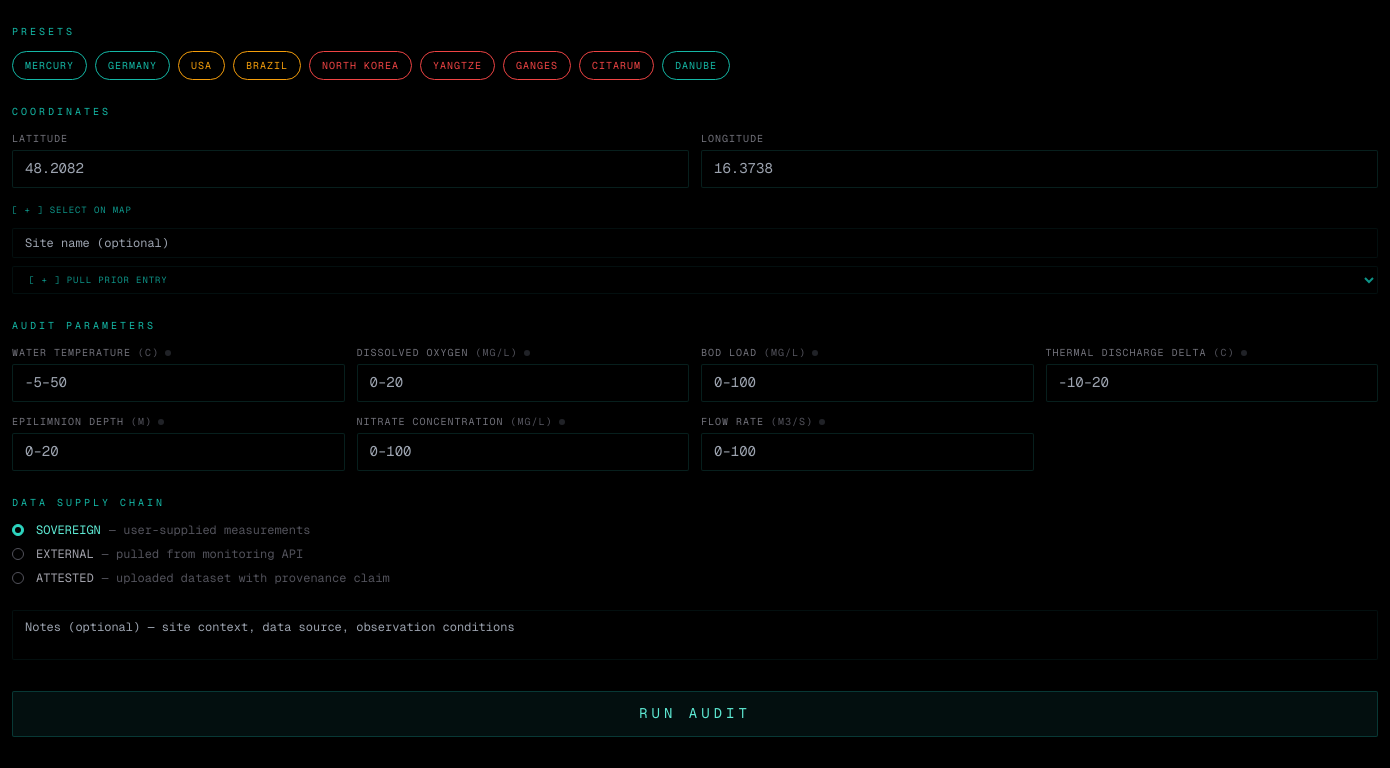
Test: SubmissionForm coordinates at submit › does not pull a 0°, 0° prior entry into the form
Click the button "GERMANY": {"x": 132, "y": 66} [95,51,170,80]
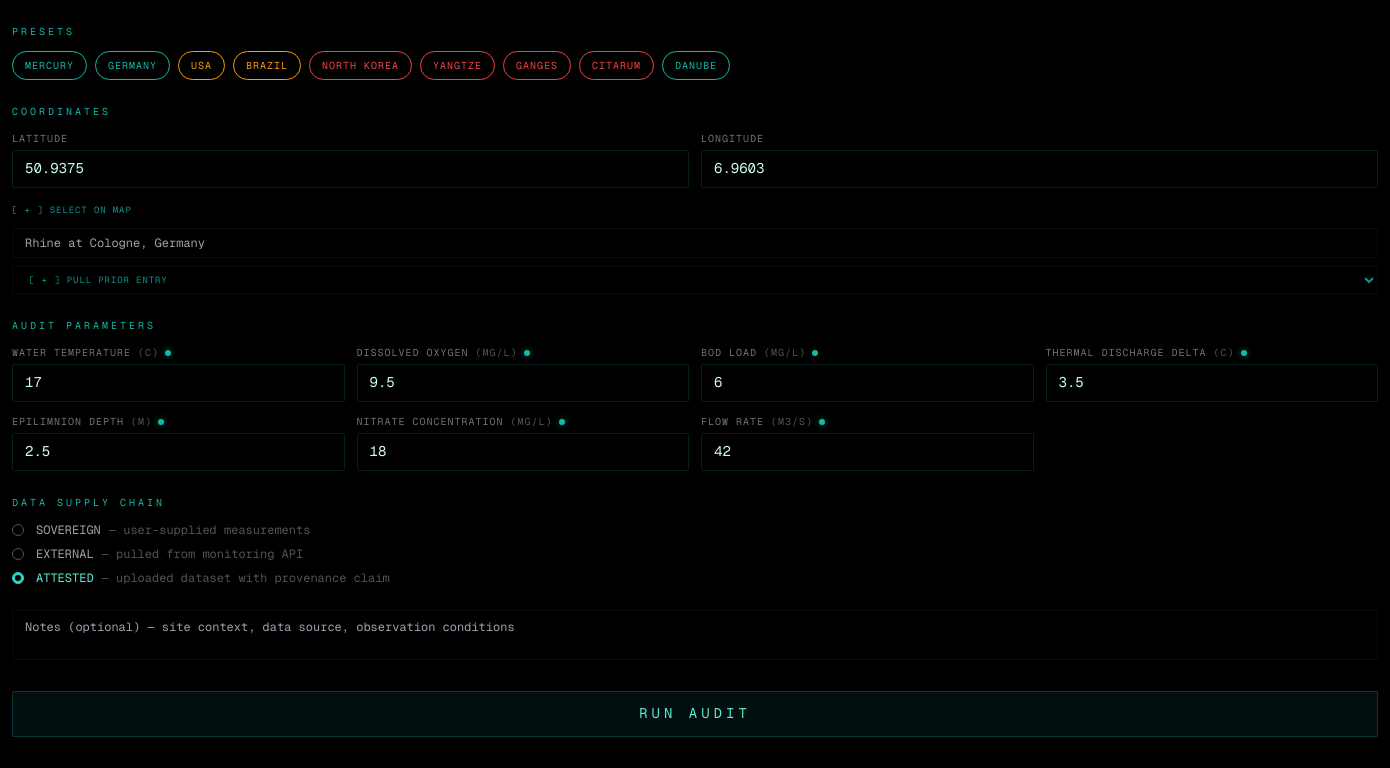
Replace the text in the number field below "Latitude" with "52.52": {"x": 350, "y": 169} [12,150,689,188]
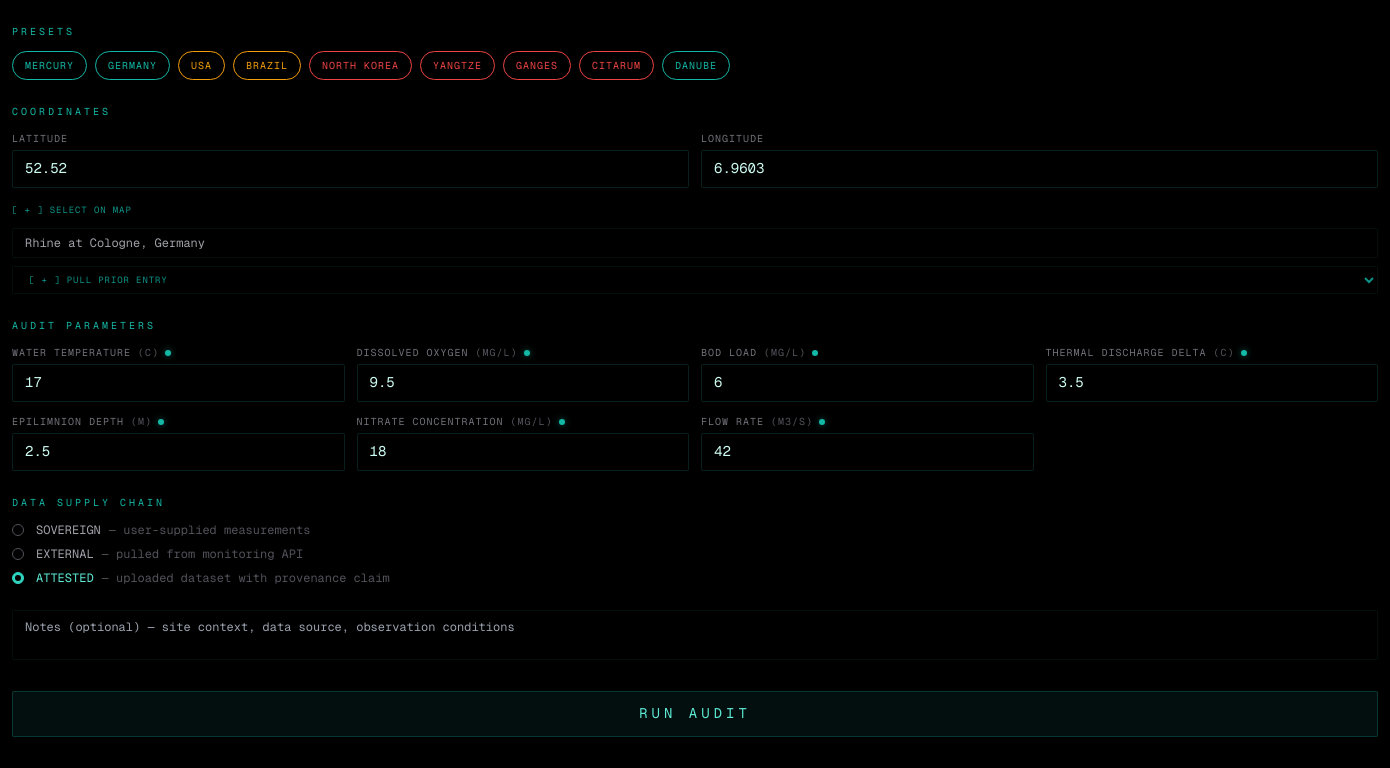
Replace the text in the number field below "Longitude" with "13.405": {"x": 1040, "y": 169} [701,150,1378,188]
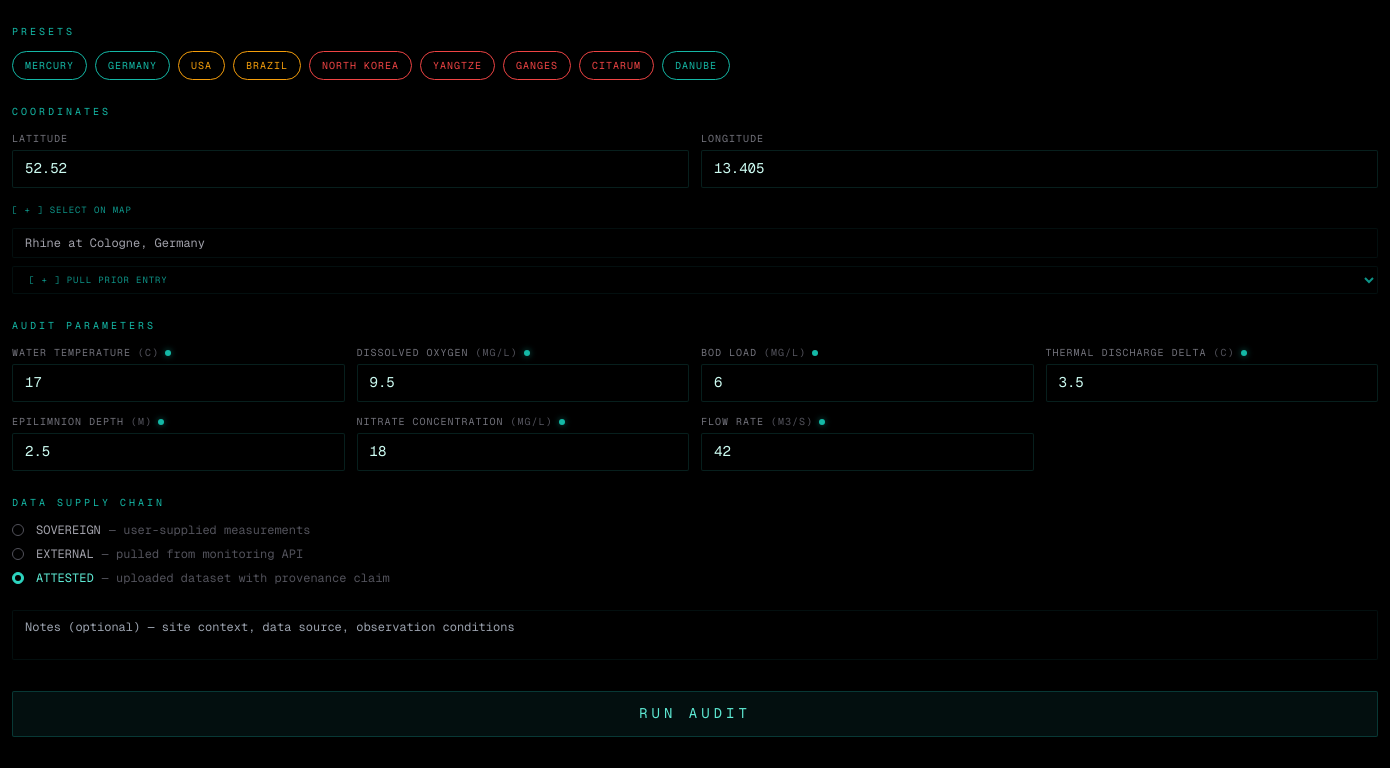
Select "0.00, 0.00 · 1/1/1970 · REJECTED" in the dropdown: {"x": 695, "y": 280} [12,266,1378,294]
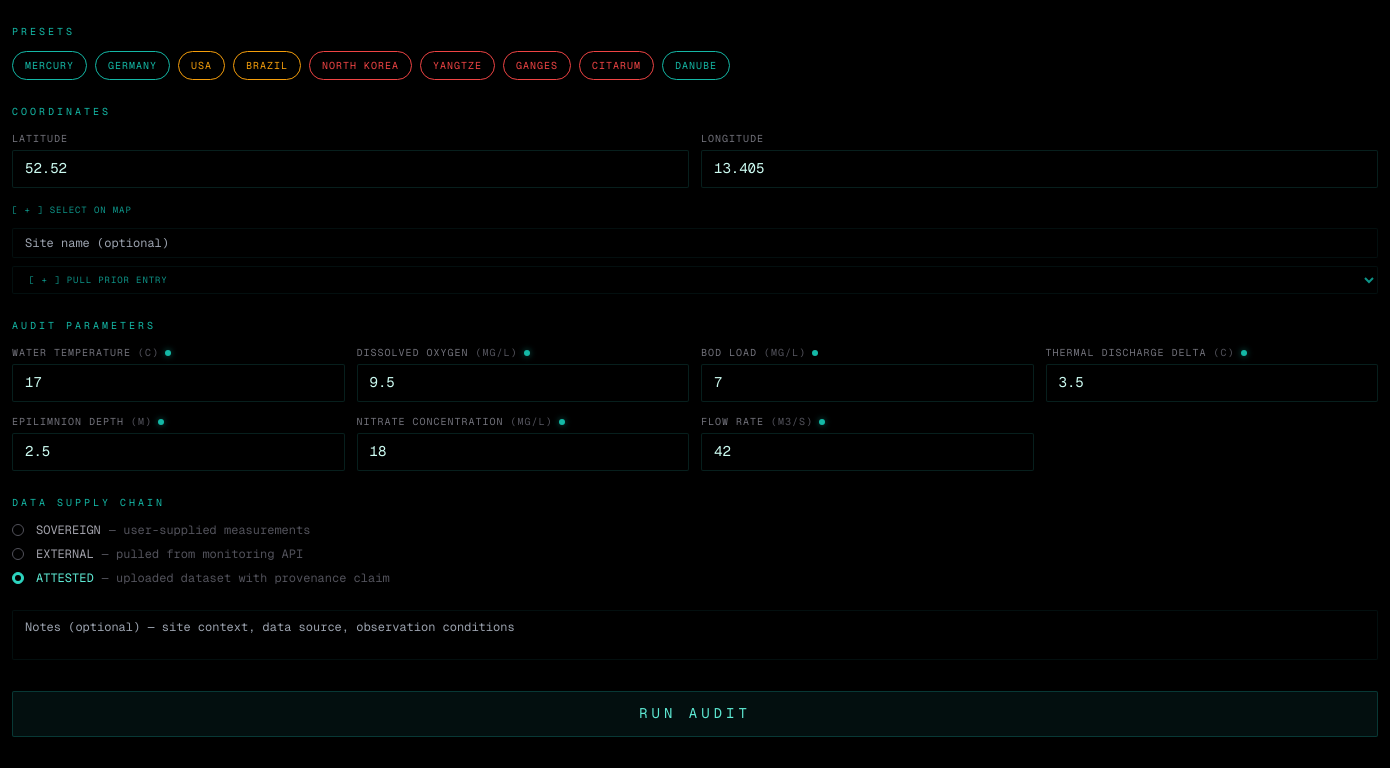
Check: the number field below "BOD Load" holds "7", box [701,364,1034,402]
